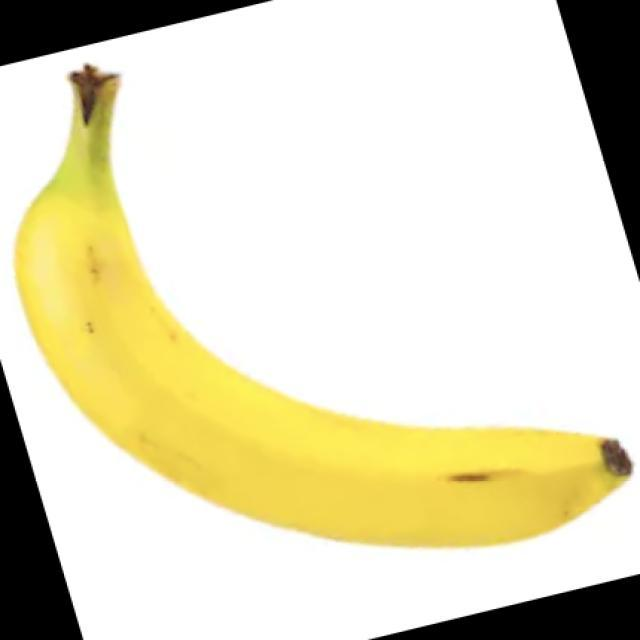Banana: (13, 61, 633, 548)
